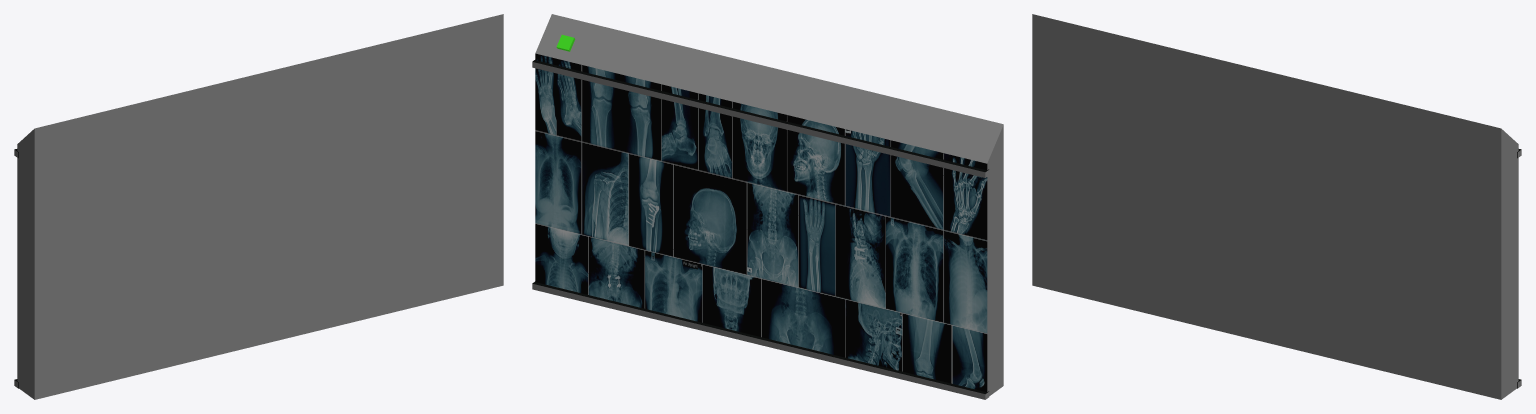
Rendered from RENTGENV2.fbx.
3 renders of one model, left to right at view 1: azimuth 30°, elevation 25°; view 2: azimuth 150°, elevation 25°; view 3: azimuth 330°, elevation 25°, orthographic. The views are drawn at different scales.
Parts seen in each view (by area): view 1: node_05bbc738_6523_4855_a319_ba6cf125967a_mesh0.002; view 2: node_05bbc738_6523_4855_a319_ba6cf125967a_mesh0.002; view 3: node_05bbc738_6523_4855_a319_ba6cf125967a_mesh0.002.
Part boxes in pixels (box(x1,y1,x2,y2)): node_05bbc738_6523_4855_a319_ba6cf125967a_mesh0.002: box(14, 14, 503, 399); node_05bbc738_6523_4855_a319_ba6cf125967a_mesh0.002: box(532, 14, 1003, 399); node_05bbc738_6523_4855_a319_ba6cf125967a_mesh0.002: box(1032, 14, 1521, 399).
Bounding box in the file's own units: 8250 × 4550 × 600.
Materials: 4 (2 with a texture image).
